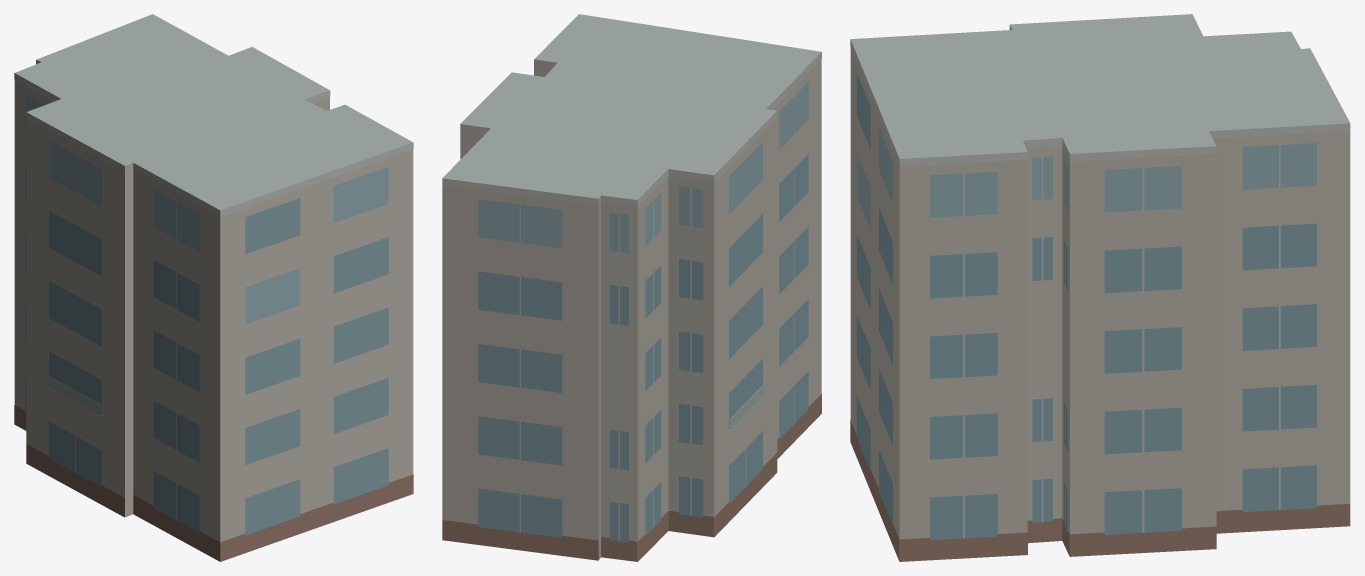
Rendered from survey-upis-32929824.glb.
3 renders of one model, left to right at view 1: azimuth 30°, elevation 25°; view 2: azimuth 150°, elevation 25°; view 3: azimuth 270°, elevation 25°, orthographic. The views are drawn at different scales.
Parts seen in each view (by area): view 1: survey-upis-32929824.tmp; view 2: survey-upis-32929824.tmp; view 3: survey-upis-32929824.tmp.
Boxes of the visible parts, x1,y1,x2,y2 form: survey-upis-32929824.tmp: (14,14,413,561); survey-upis-32929824.tmp: (442,14,821,561); survey-upis-32929824.tmp: (850,14,1350,561).
Bounding box in the file's own units: 9.89 × 12.8 × 14.41.
